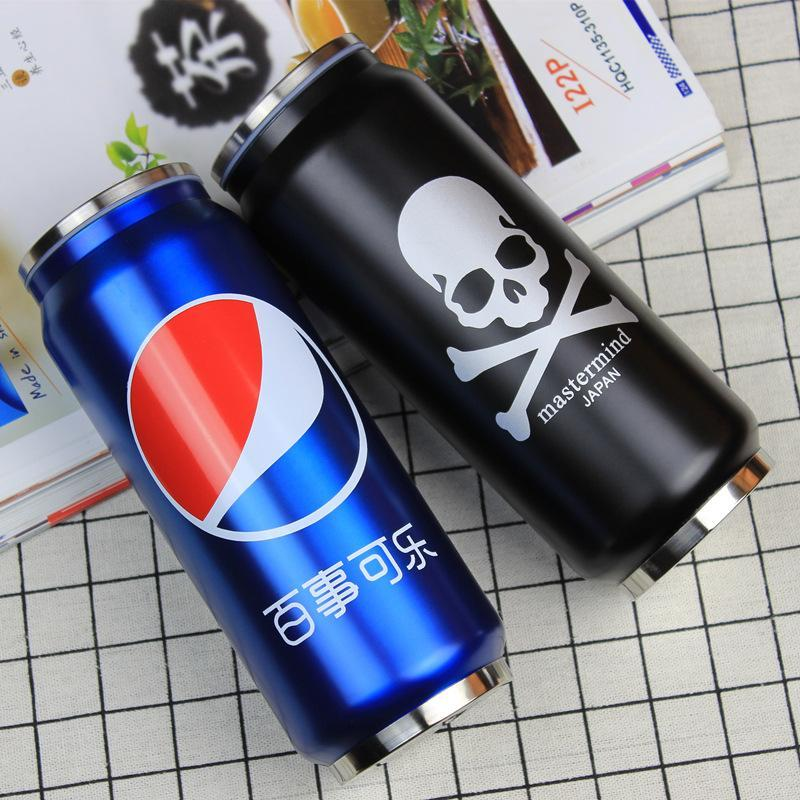metal: (216, 34, 756, 581), (22, 164, 507, 763), (0, 263, 127, 546)
